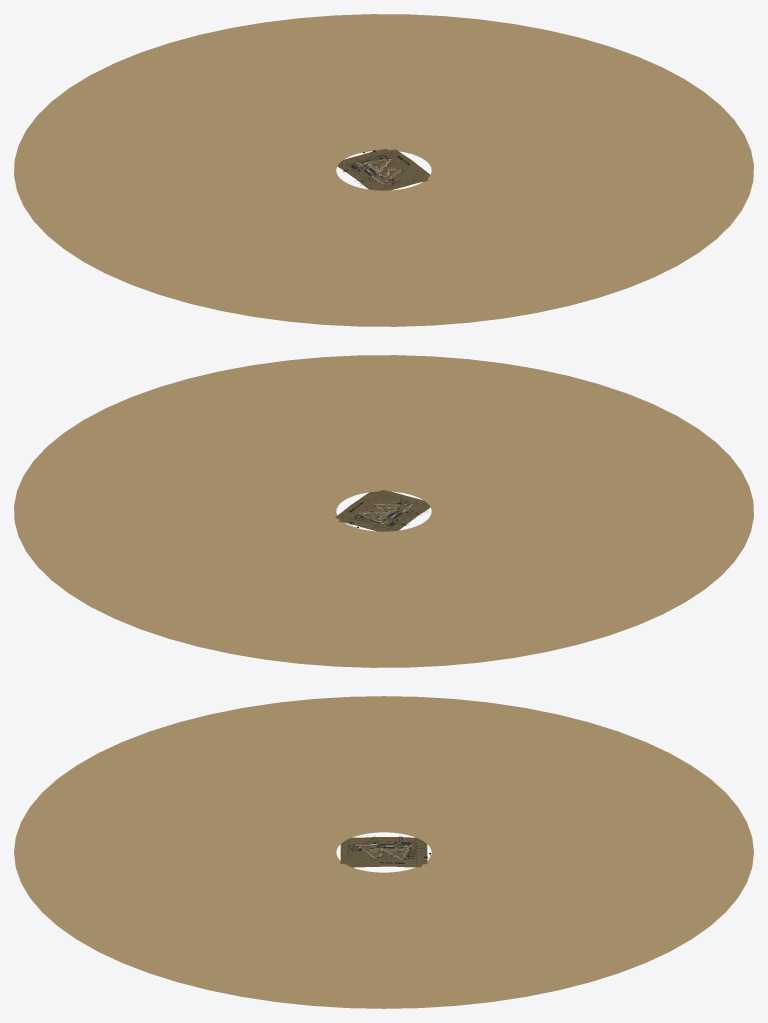
The model's file is sakhir.glb.
The picture shows the model from 3 angles, top to bottom: view 1: azimuth 30°, elevation 25°; view 2: azimuth 150°, elevation 25°; view 3: azimuth 270°, elevation 25°; orthographic projection.
Parts seen in each view (by area): view 1: RL_Circuit; view 2: RL_Circuit; view 3: RL_Circuit.
Boxes of the visible parts, bbox=[...] form: RL_Circuit: bbox=[14, 14, 753, 326]; RL_Circuit: bbox=[14, 355, 753, 667]; RL_Circuit: bbox=[14, 696, 753, 1008].
Size of the model in its own units: 18000 by 59.05 by 18000.
Materials: 92 (63 with a texture image).
